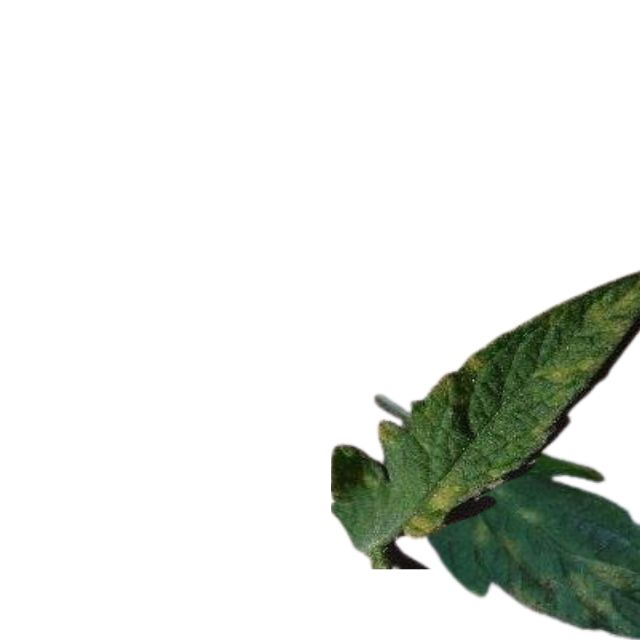Leaf_Mold: (564, 558, 640, 638), (400, 480, 461, 540), (539, 354, 608, 387), (375, 419, 398, 446), (465, 352, 489, 373)
